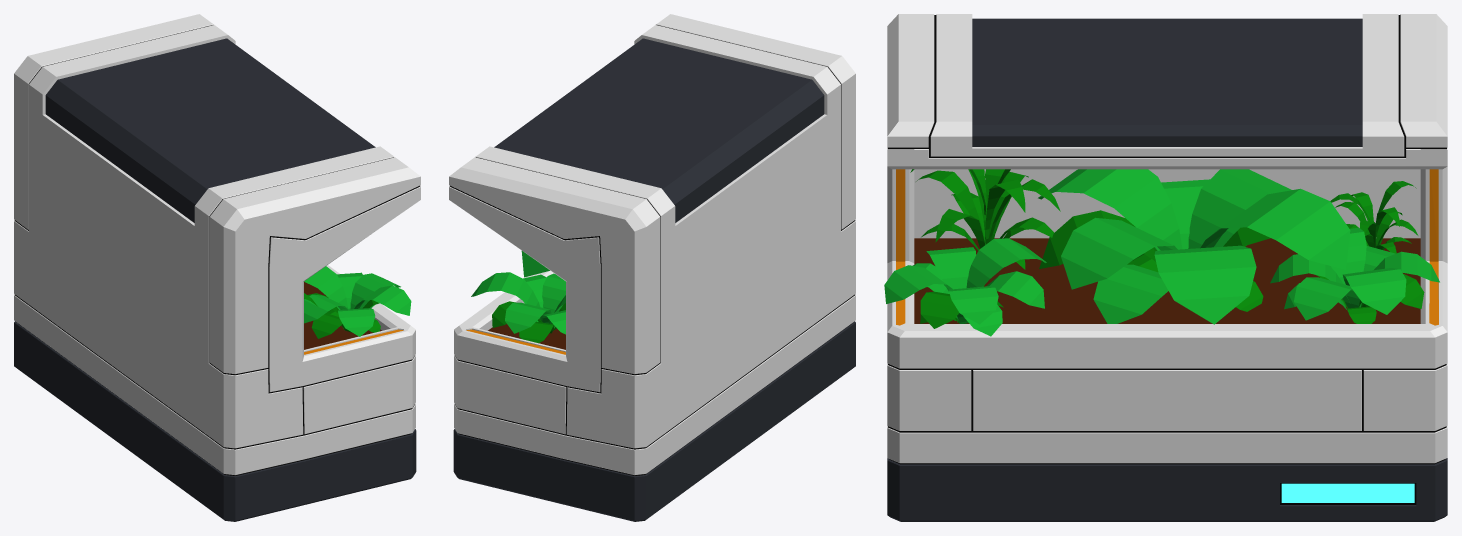
Rendered from SM_Sealed_Planter_Box.fbx.
3 views of the same model, side by side, from view 1: azimuth 30°, elevation 25°; view 2: azimuth 150°, elevation 25°; view 3: azimuth 270°, elevation 25° (orthographic). The views are drawn at different scales.
Visible parts, largest first — view 1: SM_Sealed_Planter_Box; view 2: SM_Sealed_Planter_Box; view 3: SM_Sealed_Planter_Box.
Boxes of the visible parts, x1,y1,x2,y2 form: SM_Sealed_Planter_Box: (14, 14, 420, 521); SM_Sealed_Planter_Box: (449, 14, 855, 521); SM_Sealed_Planter_Box: (884, 14, 1447, 521).
Bounding box in the file's own units: 26.22 × 37.15 × 47.79.
